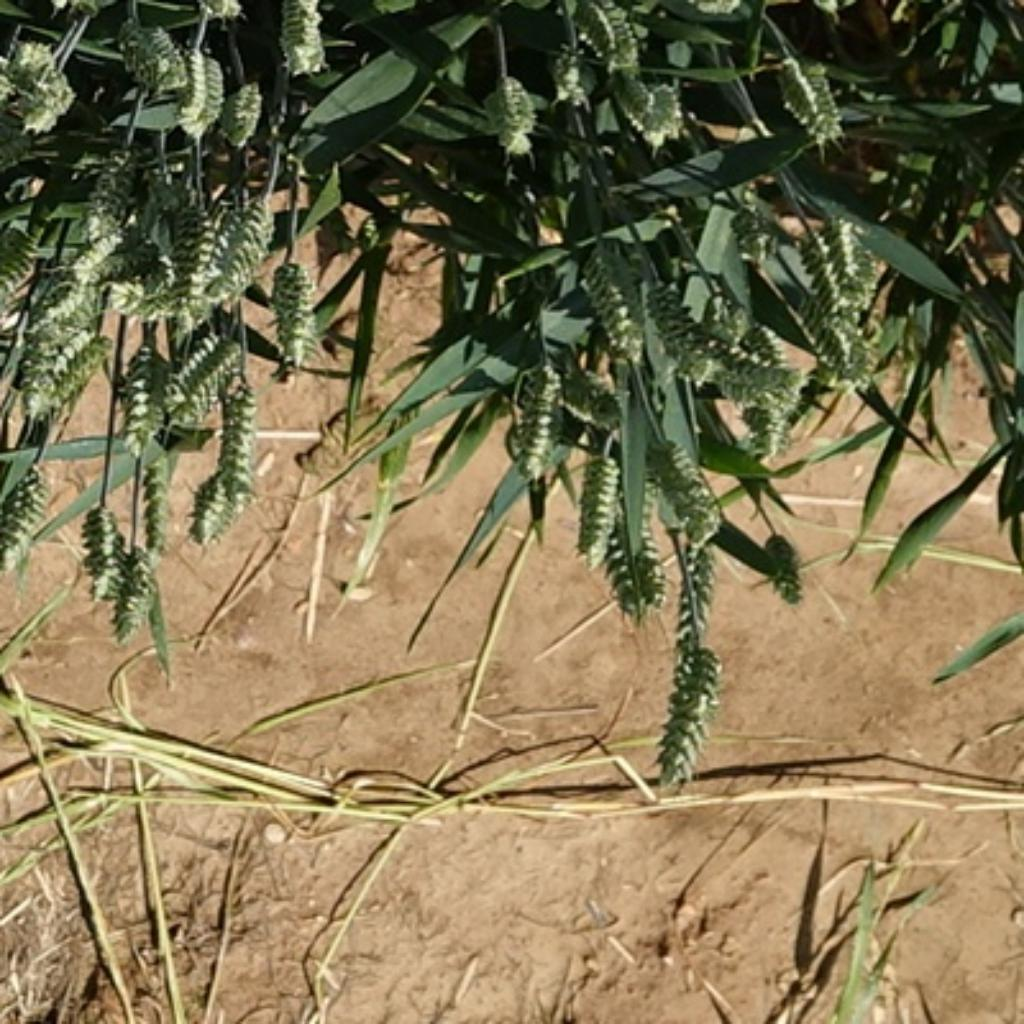0-0: (550, 442, 642, 583), (652, 616, 724, 780), (197, 197, 286, 320), (606, 486, 670, 627), (107, 325, 176, 455), (522, 348, 627, 430), (578, 238, 645, 366), (640, 427, 719, 535), (764, 56, 848, 153), (69, 143, 153, 238), (642, 276, 711, 391), (111, 19, 198, 109), (38, 335, 122, 427), (689, 346, 809, 410), (263, 258, 327, 376), (509, 363, 565, 496), (668, 519, 724, 652), (614, 75, 698, 159), (170, 41, 237, 146), (217, 386, 273, 509), (166, 335, 238, 430), (757, 512, 819, 614), (817, 315, 887, 404), (806, 203, 860, 318), (23, 314, 94, 398), (81, 499, 128, 622), (565, 0, 647, 69), (476, 66, 542, 151), (130, 450, 186, 550), (168, 202, 222, 304), (66, 230, 166, 284), (112, 537, 163, 642), (268, 0, 335, 76), (16, 66, 87, 137), (711, 308, 792, 370), (97, 276, 217, 317), (186, 465, 243, 547), (739, 394, 798, 473), (0, 481, 48, 576), (347, 203, 409, 269), (721, 197, 778, 268), (0, 217, 43, 307), (537, 46, 599, 107), (844, 245, 887, 324), (23, 271, 81, 325), (222, 79, 266, 138), (0, 38, 58, 81), (793, 0, 849, 2)
